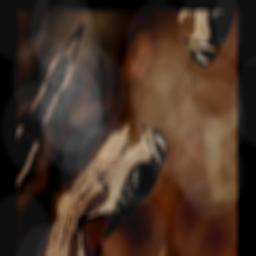Woodpecker: (73, 97, 177, 256)
